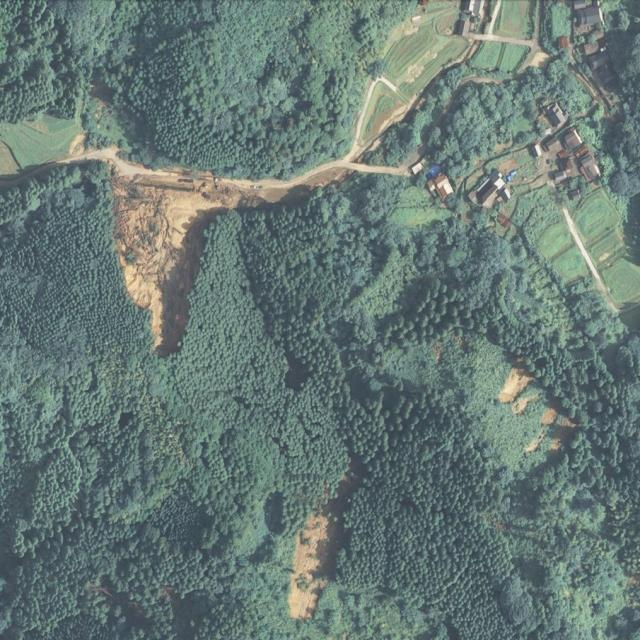landslide: (81, 149, 294, 357), (288, 474, 355, 621)
